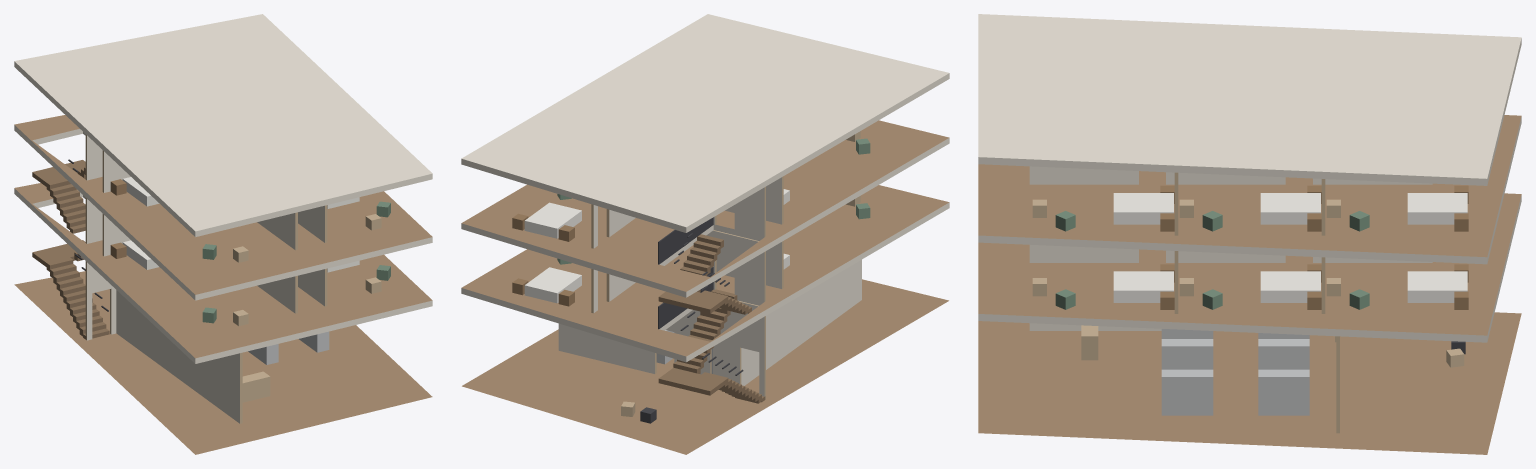
File: interior.glb
The picture shows the model from 3 angles, left to right: view 1: azimuth 30°, elevation 25°; view 2: azimuth 150°, elevation 25°; view 3: azimuth 270°, elevation 25°; orthographic projection. The views are drawn at different scales.
Visible parts, largest first — view 1: slabs, partitions, stair, coarse-s1, coarse-s2, coarse-s0; view 2: slabs, partitions, stair, coarse-s1, coarse-s2, coarse-s0; view 3: slabs, coarse-s0, partitions, coarse-s2, coarse-s1.
Boxes of the visible parts, x1,y1,x2,y2 form: slabs: (14,14,432,454); partitions: (85,134,327,423); stair: (32,159,109,339); coarse-s1: (110,240,390,326); coarse-s2: (110,177,390,262); coarse-s0: (242,331,329,402); slabs: (461,14,949,454); partitions: (558,176,861,399); stair: (658,217,765,403); coarse-s1: (512,196,870,306); coarse-s2: (512,131,870,241); coarse-s0: (621,330,712,423); slabs: (978,14,1521,454); coarse-s0: (1081,325,1465,415); partitions: (1029,166,1432,433); coarse-s2: (1032,185,1468,231); coarse-s1: (1032,264,1468,309).
Size of the model in its own units: 12.95 by 10.13 by 18.03.
